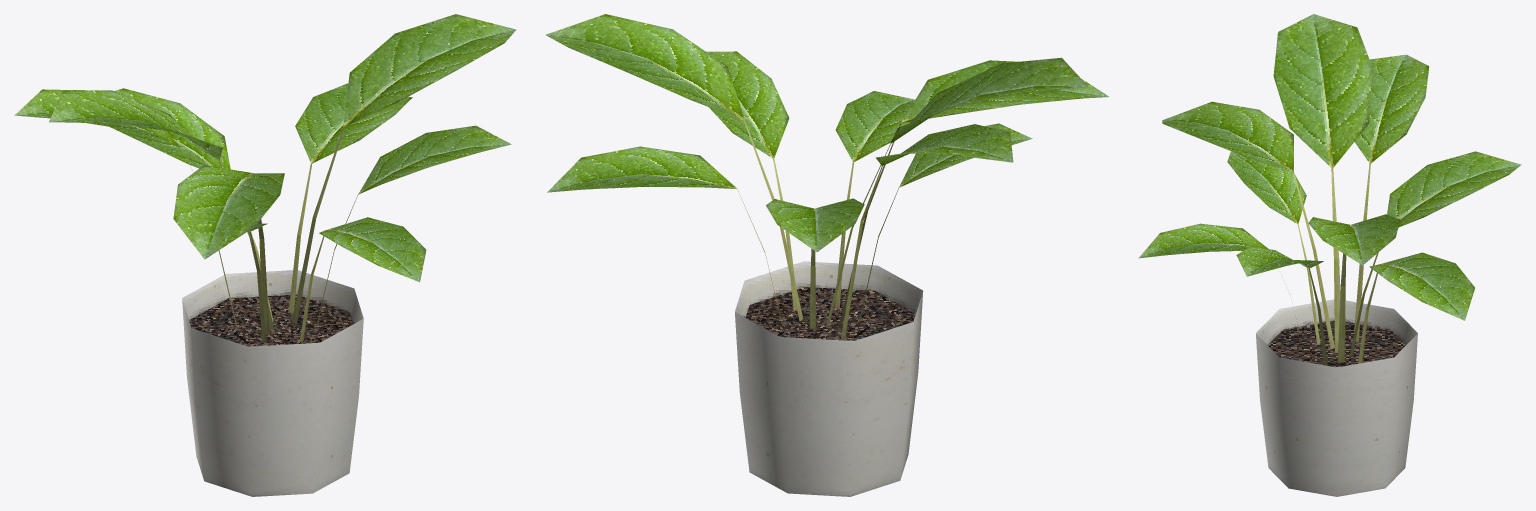
Rendered from Plant.glb.
The picture shows the model from 3 angles, left to right: view 1: azimuth 30°, elevation 25°; view 2: azimuth 150°, elevation 25°; view 3: azimuth 270°, elevation 25°; orthographic projection. The views are drawn at different scales.
Parts seen in each view (by area): view 1: plant; view 2: plant; view 3: plant.
Part boxes in pixels (box(x1,y1,x2,y2)): plant: box(14, 14, 516, 496); plant: box(545, 14, 1109, 496); plant: box(1139, 14, 1521, 496).
Size of the model in its own units: 1.37 by 1.09 by 1.06.
Materials: 1 (1 with a texture image).
